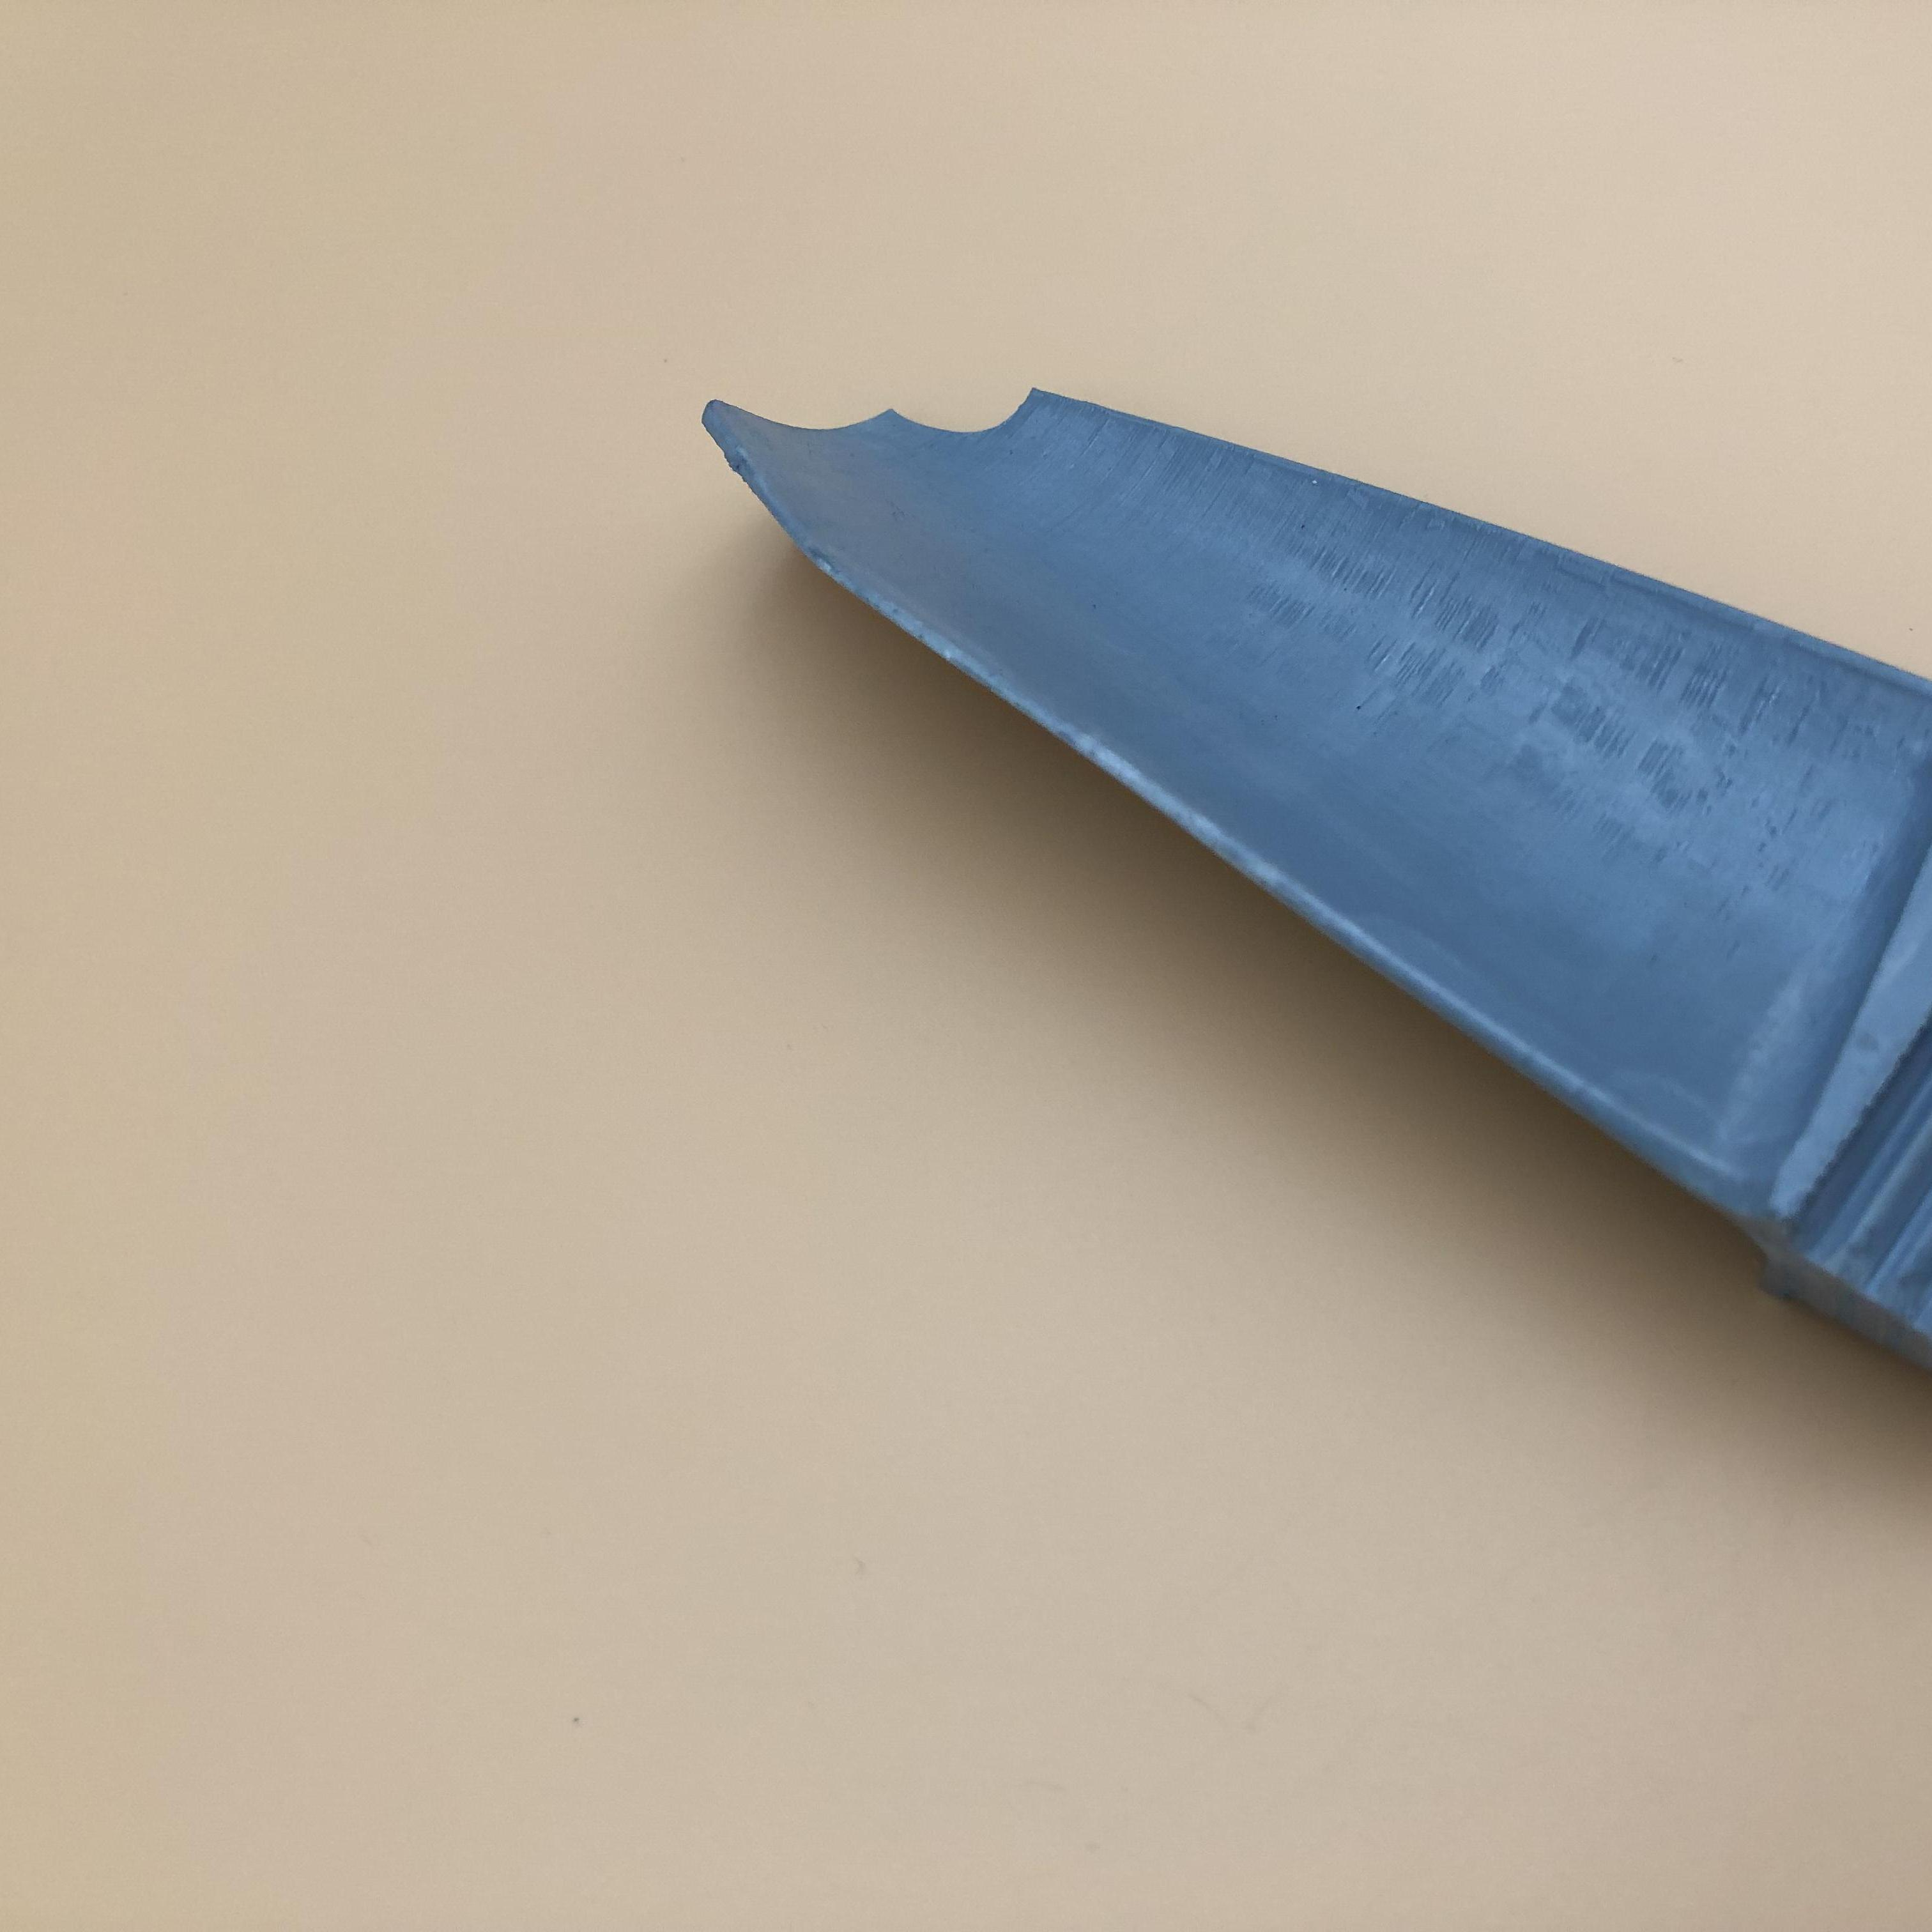fracture: (729, 377, 1063, 460)
